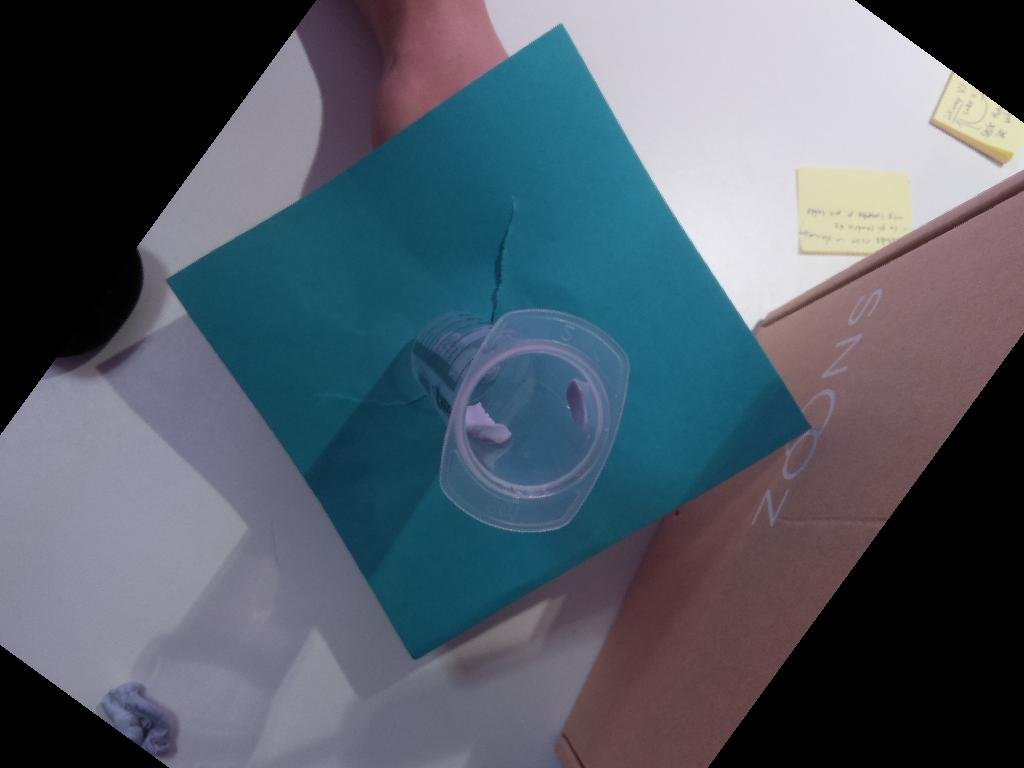dirty: (437, 308, 631, 532)
